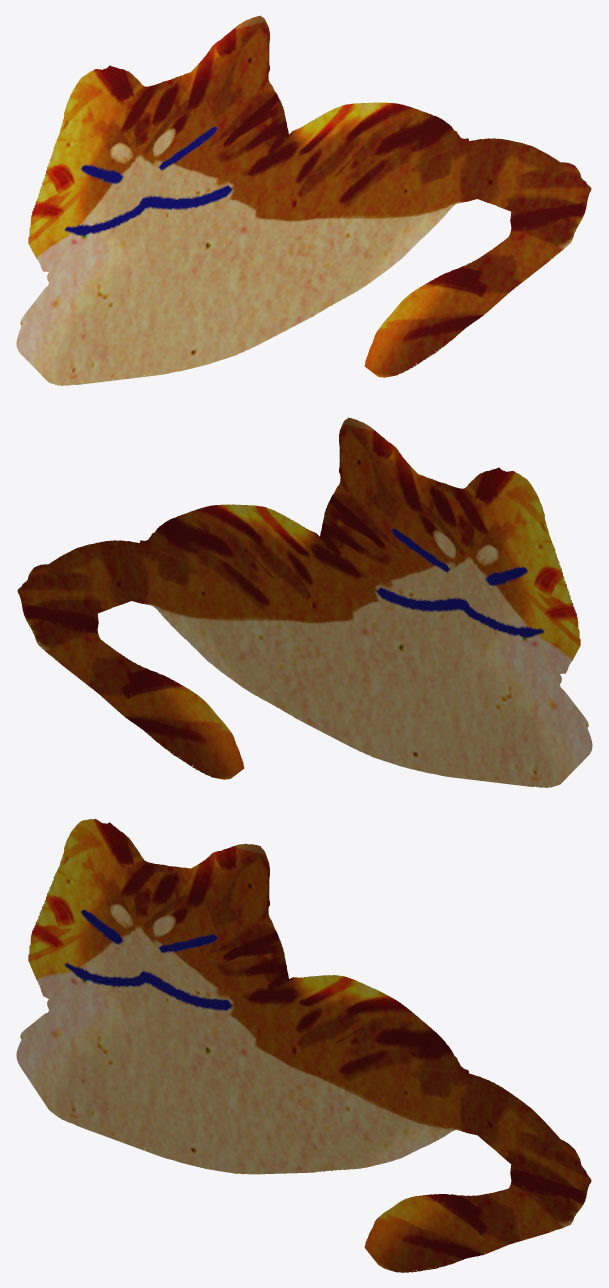
File: animal_03.fbx
The picture shows the model from 3 angles, top to bottom: view 1: azimuth 30°, elevation 25°; view 2: azimuth 150°, elevation 25°; view 3: azimuth 330°, elevation 25°; orthographic projection.
Parts seen in each view (by area): view 1: animal_03; view 2: animal_03; view 3: animal_03.
Boxes of the visible parts, x1=… form: animal_03: x1=16, y1=15, x2=591, y2=385; animal_03: x1=17, y1=417, x2=592, y2=787; animal_03: x1=16, y1=819, x2=591, y2=1272.
Size of the model in its own units: 89.83 by 58.23 by 6.94e-06.
Materials: 1 (1 with a texture image).
